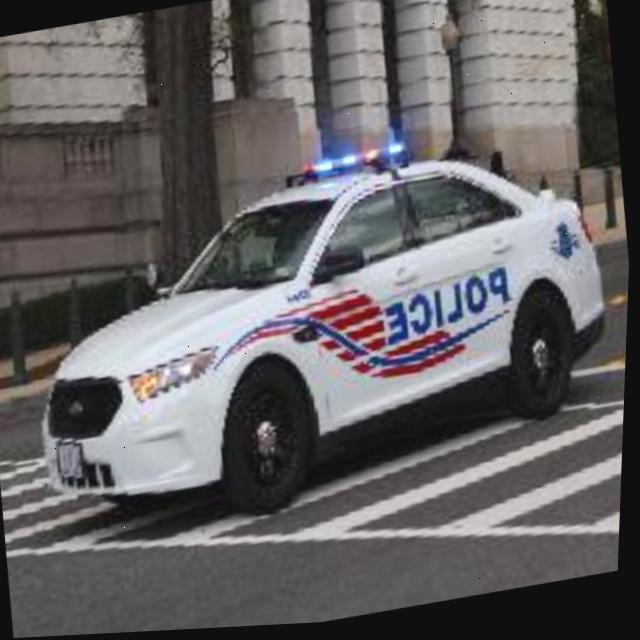emergency: (16, 121, 625, 548)
